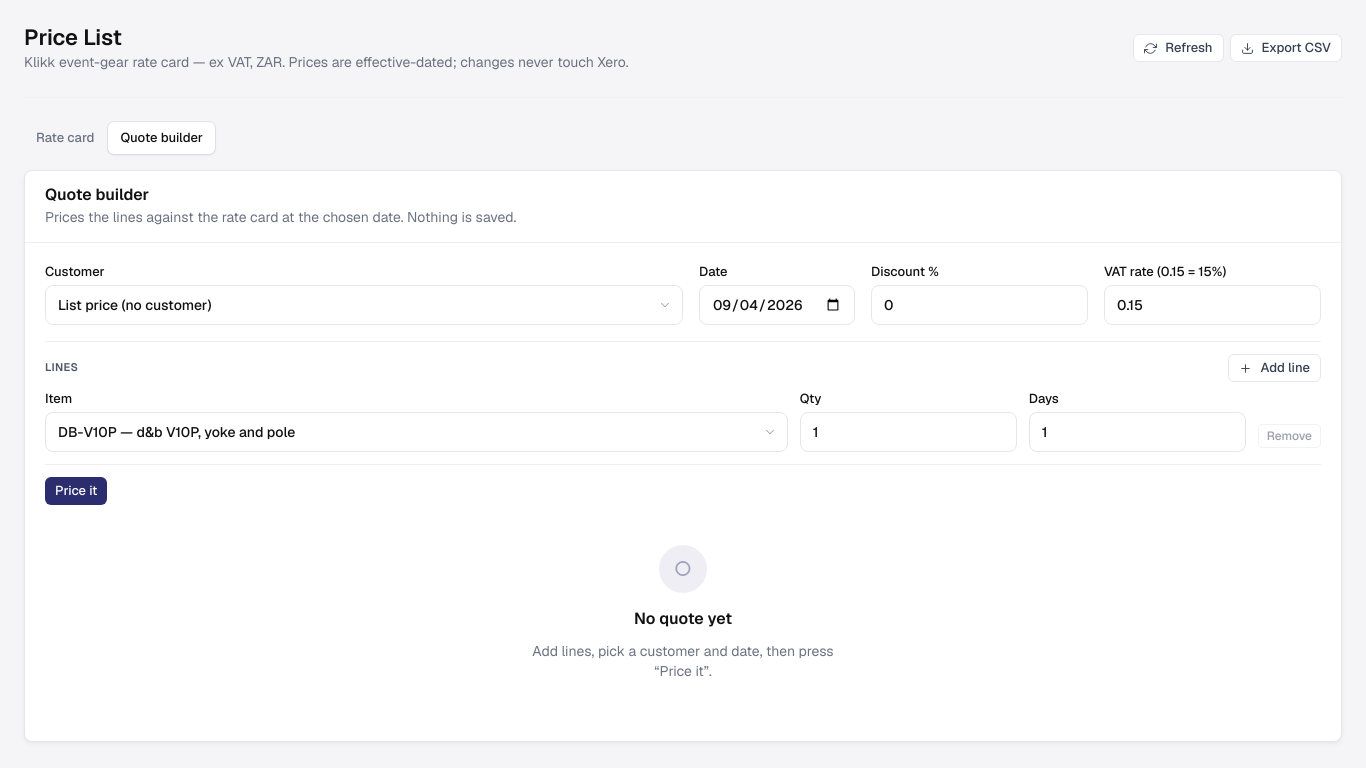
Test case: Pricelist — quote builder › a buildQuote rejection surfaces the error and re-enables Price it
Step 1. Click the button "Price it" → (76, 491), box x1=45 y1=477 x2=107 y2=505
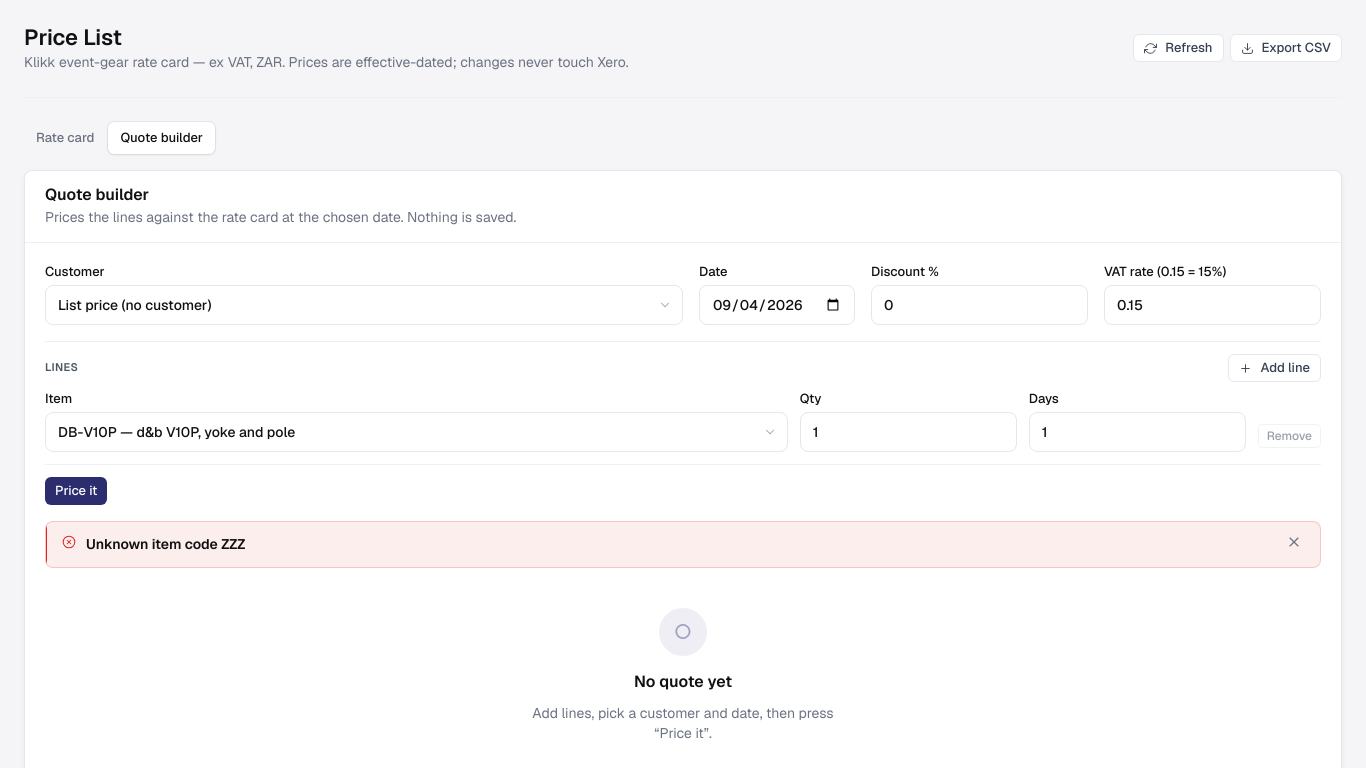
Check: the text "No quote yet" is shown, box x1=634 y1=670 x2=732 y2=693
Check: the message with class "kalert--error" reads "Unknown item code ZZZ", box x1=86 y1=535 x2=245 y2=553
